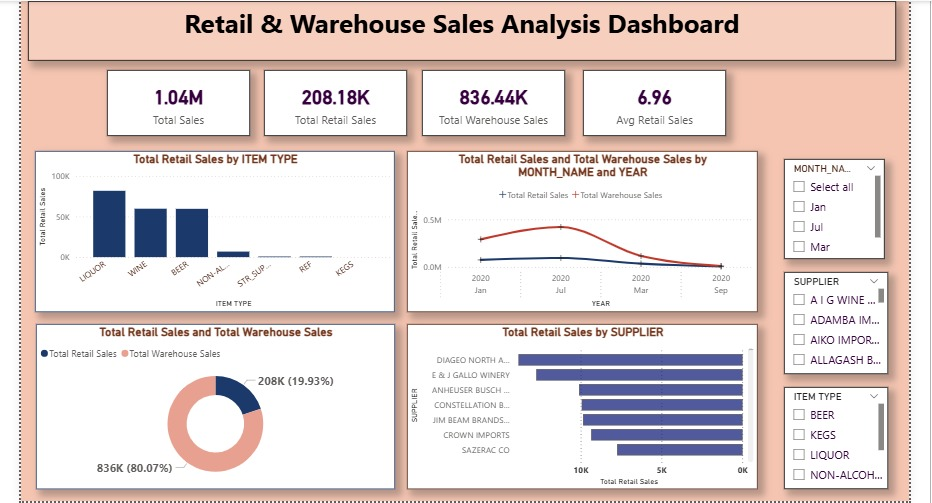

Layout of this report page (visuals, bound fields, positions):
{"tool":"powerbi","page":{"name":"Page 1","canvas":[1280,720],"ordinal":0},"visuals":[{"type":"textbox","box":[10.1,0,1249.8,85.7],"z":0},{"type":"clusteredColumnChart","fields":{"Category":["retail_cleaned.ITEM TYPE"],"Y":["DAX Measures.Total Retail Sales"]},"box":[19.7,216.7,518.2,231.8],"z":1000},{"type":"lineChart","fields":{"Y":["DAX Measures.Total Retail Sales","DAX Measures.Total Warehouse Sales"],"Category":["retail_cleaned.MONTH_NAME","retail_cleaned.YEAR"]},"box":[556.1,216.7,504.5,231.8],"z":2000},{"type":"donutChart","fields":{"Y":["DAX Measures.Total Retail Sales","DAX Measures.Total Warehouse Sales"]},"box":[21.2,465.2,516.7,237.9],"z":3000},{"type":"slicer","fields":{"Values":["retail_cleaned.MONTH_NAME"]},"box":[1098.5,227.3,145.5,143.9],"z":4000},{"type":"clusteredBarChart","fields":{"Category":["retail_cleaned.SUPPLIER"],"Y":["DAX Measures.Total Retail Sales"]},"box":[556,465,505,238],"z":5000},{"type":"slicer","fields":{"Values":["retail_cleaned.SUPPLIER"]},"box":[1098.5,390.9,150,147],"z":6000},{"type":"slicer","fields":{"Values":["retail_cleaned.ITEM TYPE"]},"box":[1098.5,556.1,150,147],"z":7000},{"type":"card","fields":{"Values":["DAX Measures.Total Sales"]},"box":[124.2,100,206.1,95.5],"z":8000},{"type":"card","fields":{"Values":["DAX Measures.Total Retail Sales"]},"box":[350,100,206.1,95.5],"z":9000},{"type":"card","fields":{"Values":["DAX Measures.Total Warehouse Sales"]},"box":[577.3,100,206.1,95.5],"z":10000},{"type":"card","fields":{"Values":["DAX Measures.Avg Retail Sales"]},"box":[809.1,100,206.1,95.5],"z":11000}]}

Visuals, with their boxes in screenshot pixels (x1, y1, x2, y2):
textbox: bbox=(29, 0, 889, 59)
clusteredColumnChart - retail_cleaned.ITEM TYPE x DAX Measures.Total Retail Sales: bbox=(35, 149, 392, 309)
lineChart - DAX Measures.Total Retail Sales x DAX Measures.Total Warehouse Sales: bbox=(405, 149, 752, 309)
donutChart - DAX Measures.Total Retail Sales x DAX Measures.Total Warehouse Sales: bbox=(36, 320, 392, 484)
slicer - retail_cleaned.MONTH_NAME: bbox=(778, 156, 878, 255)
clusteredBarChart - retail_cleaned.SUPPLIER x DAX Measures.Total Retail Sales: bbox=(404, 320, 752, 484)
slicer - retail_cleaned.SUPPLIER: bbox=(778, 269, 881, 370)
slicer - retail_cleaned.ITEM TYPE: bbox=(778, 383, 881, 484)
card - DAX Measures.Total Sales: bbox=(107, 69, 249, 135)
card - DAX Measures.Total Retail Sales: bbox=(263, 69, 405, 135)
card - DAX Measures.Total Warehouse Sales: bbox=(419, 69, 561, 135)
card - DAX Measures.Avg Retail Sales: bbox=(579, 69, 720, 135)
